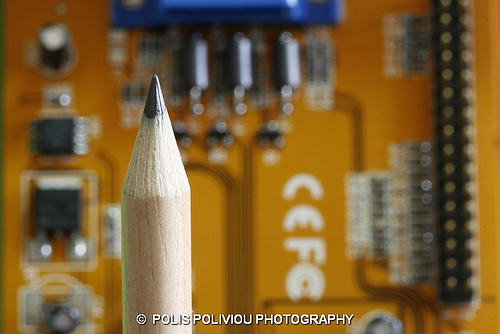pen_tip: (120, 68, 197, 218)
